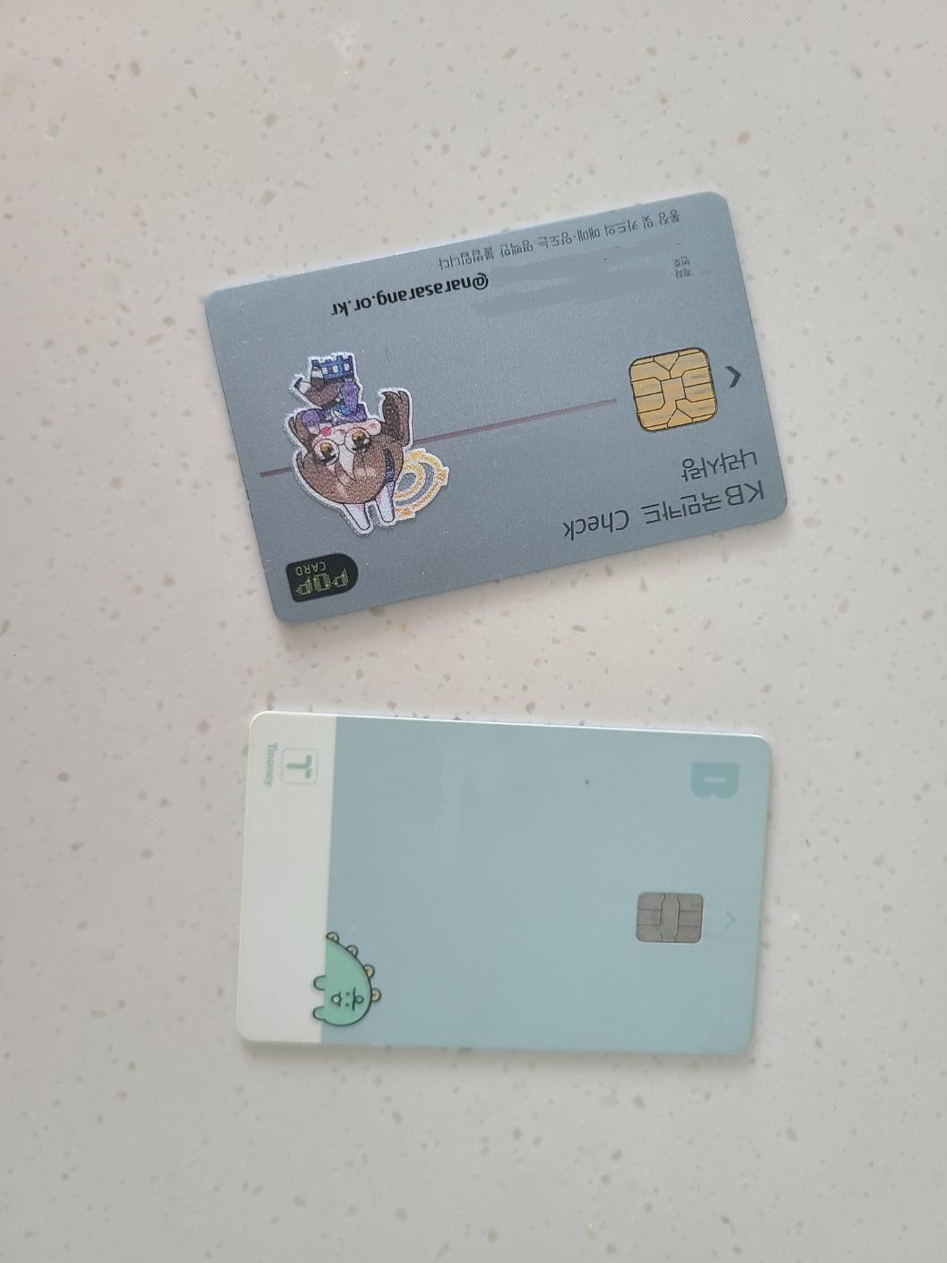Credit_card: (205, 193, 785, 620), (237, 713, 769, 1054)
